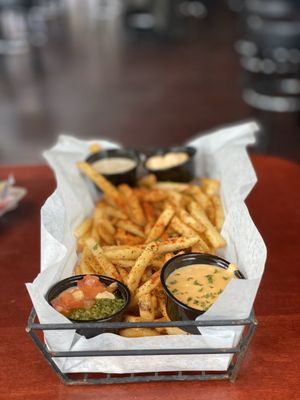sushi: (160, 252, 240, 322), (45, 273, 132, 323)
